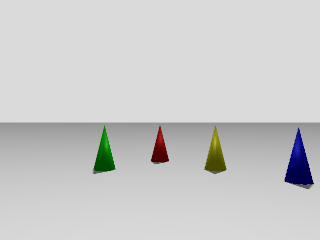blue: (283, 126, 313, 185)
green: (93, 125, 116, 172)
red: (147, 125, 170, 162)
yellow: (202, 123, 227, 173)
